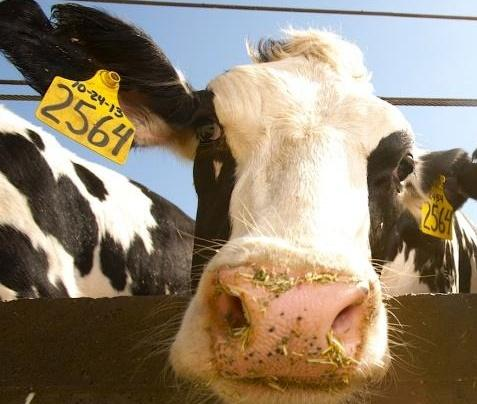muzzles: (183, 253, 396, 404)
